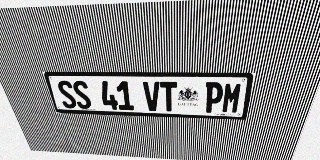1: (115, 81, 134, 110)
4: (98, 81, 119, 110)
M: (221, 82, 243, 113)
P: (204, 82, 224, 113)
S: (56, 80, 78, 109), (71, 81, 93, 109)
T: (160, 82, 177, 112)
V: (143, 81, 161, 111)
